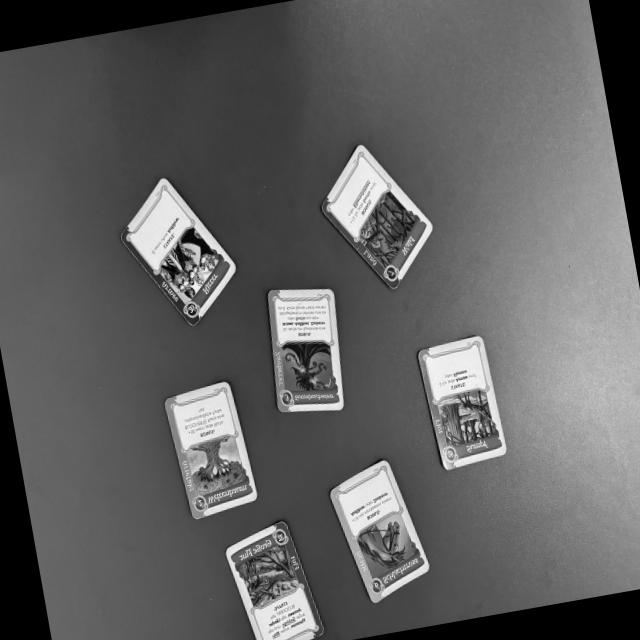Forest: (320, 142, 434, 292)
Great Flood: (225, 519, 326, 640)
Knights: (116, 175, 240, 330)
Necromancer: (264, 284, 346, 411)
Swamp: (415, 331, 510, 474)
War Horse: (323, 451, 434, 609)
World Tree: (161, 379, 259, 521)
